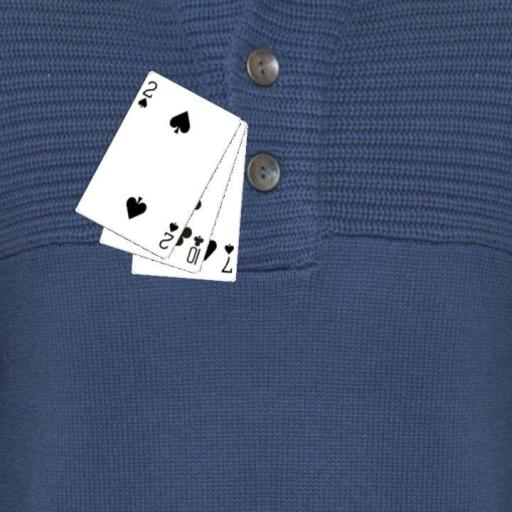10C: (184, 232, 206, 267)
2S: (135, 78, 160, 110), (156, 219, 180, 251)
7S: (219, 241, 236, 275)
